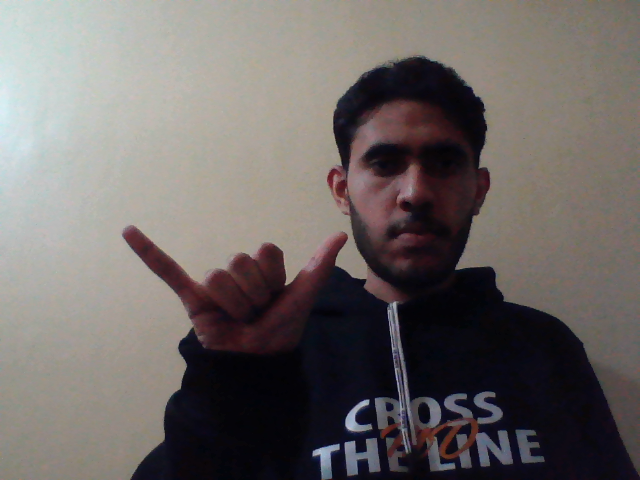Y: (117, 219, 352, 360)
